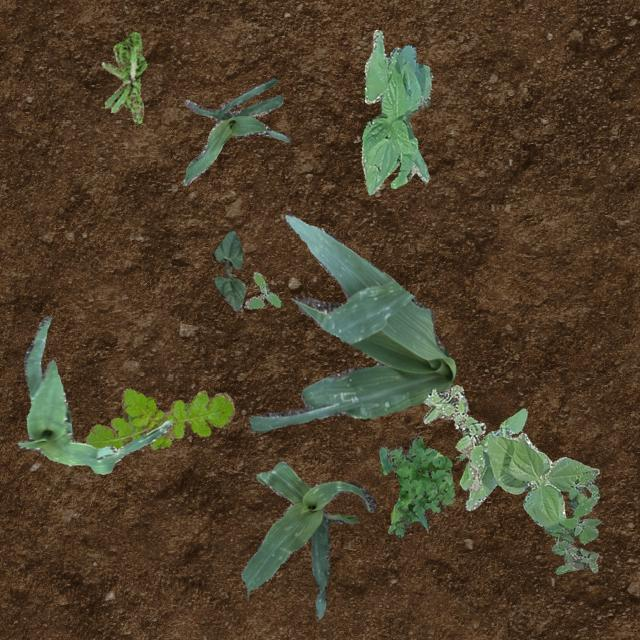crop: (248, 212, 456, 429), (16, 314, 170, 474), (240, 460, 374, 618), (458, 408, 598, 526), (361, 28, 432, 194), (182, 76, 290, 184), (212, 228, 244, 310)
weed: (84, 388, 234, 450), (378, 434, 454, 536), (422, 384, 484, 491), (544, 468, 600, 572), (100, 31, 146, 122), (242, 270, 280, 308)
